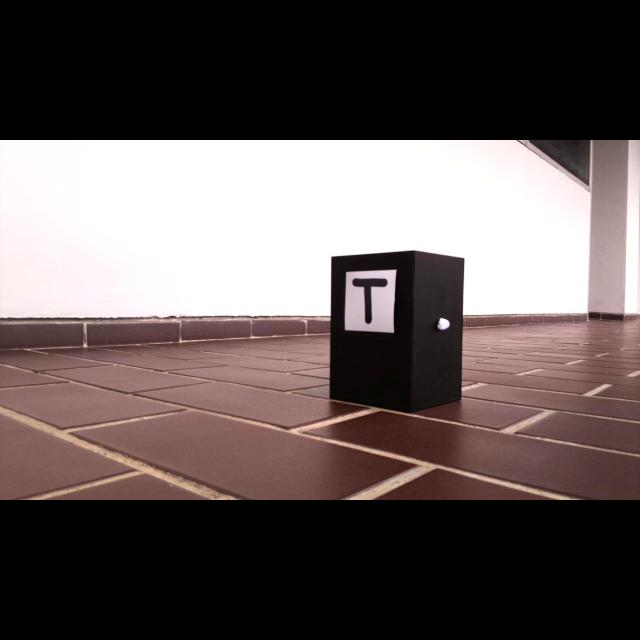T: (352, 278, 388, 324)
